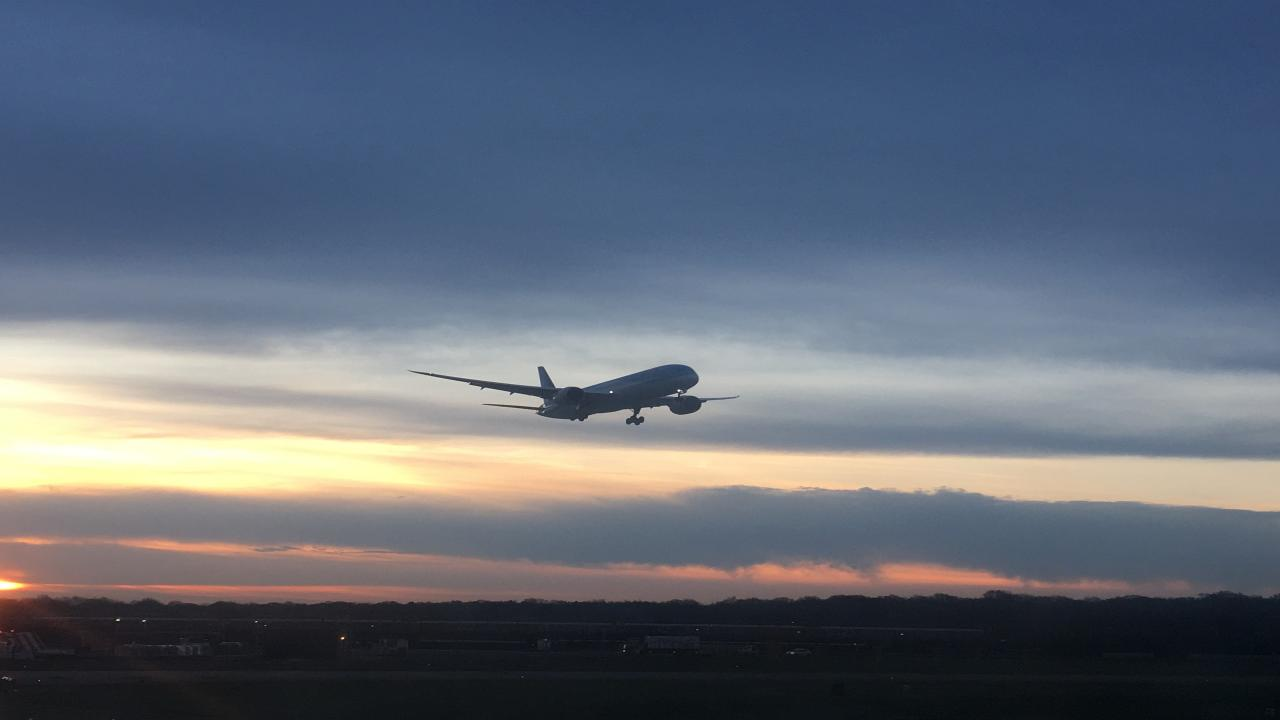Airplane: (398, 354, 750, 435)
